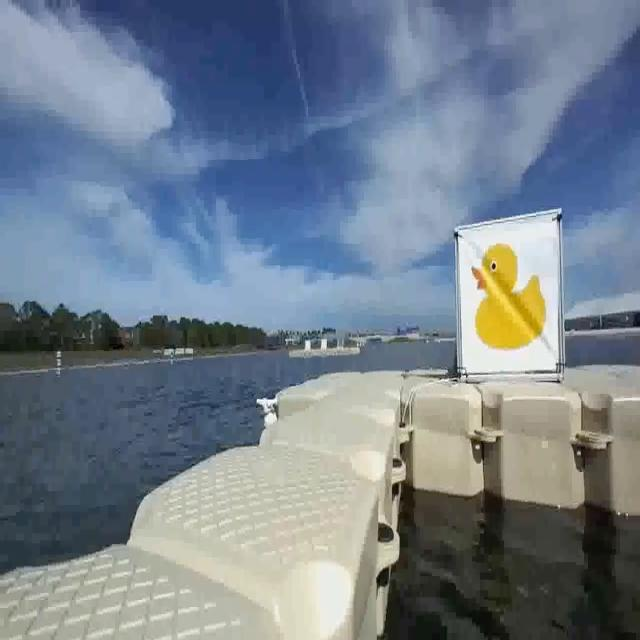yellow-duck: (455, 228, 551, 385)
